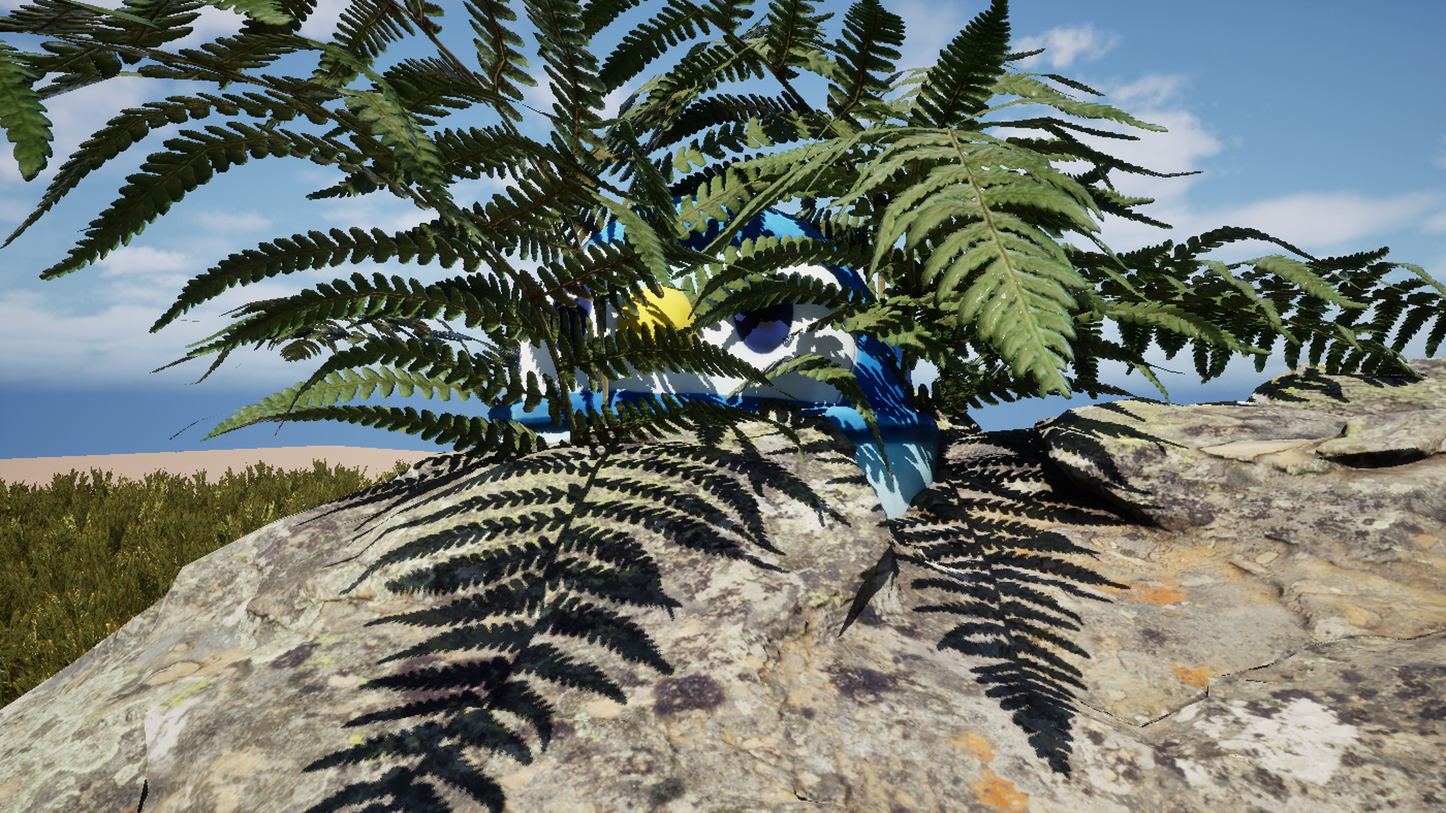Piplup: (348, 28, 1054, 785)
